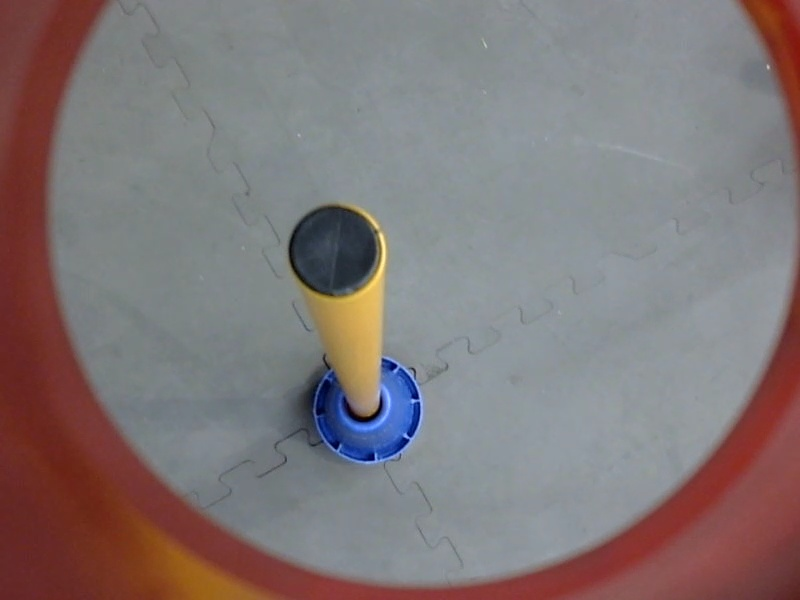tip: (283, 201, 394, 305)
